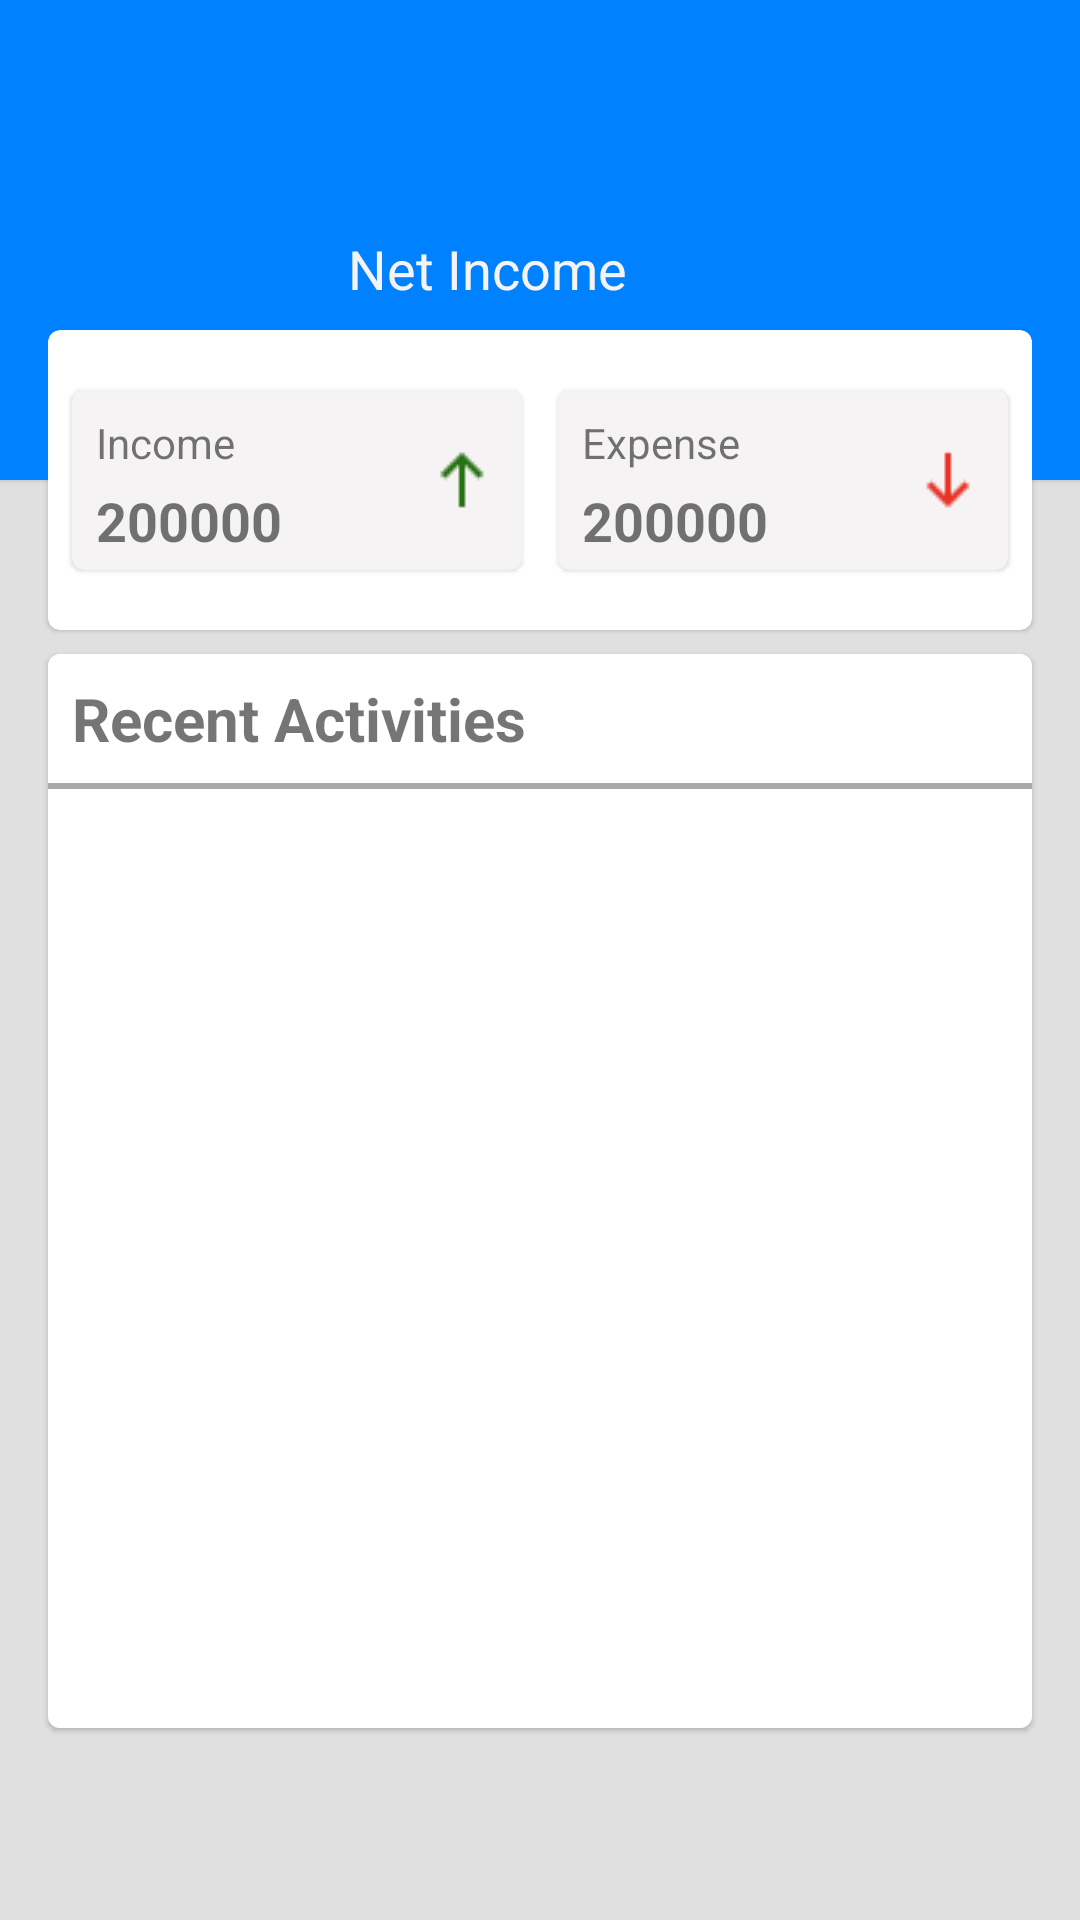

Icon click points for this 1080px×1920px phone screenshot, format (x=x, y=y):
down: (x=948, y=480)
